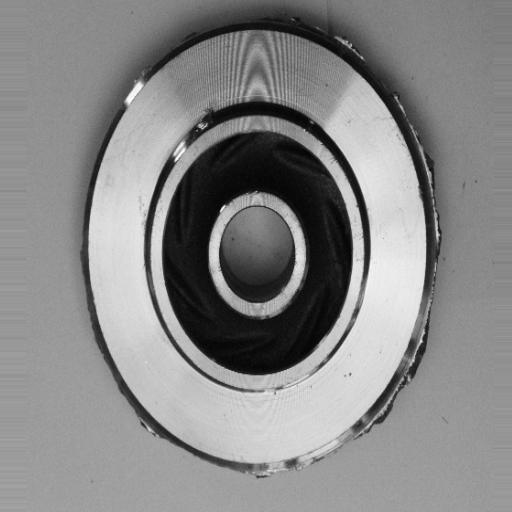casting_with_burr: (74, 10, 444, 482)
scratch: (160, 102, 214, 172), (255, 368, 326, 407)
